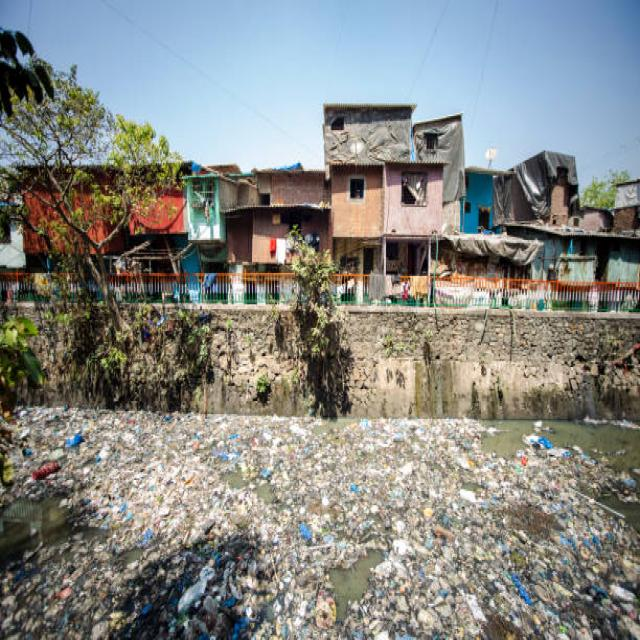trash: (26, 408, 635, 630)
